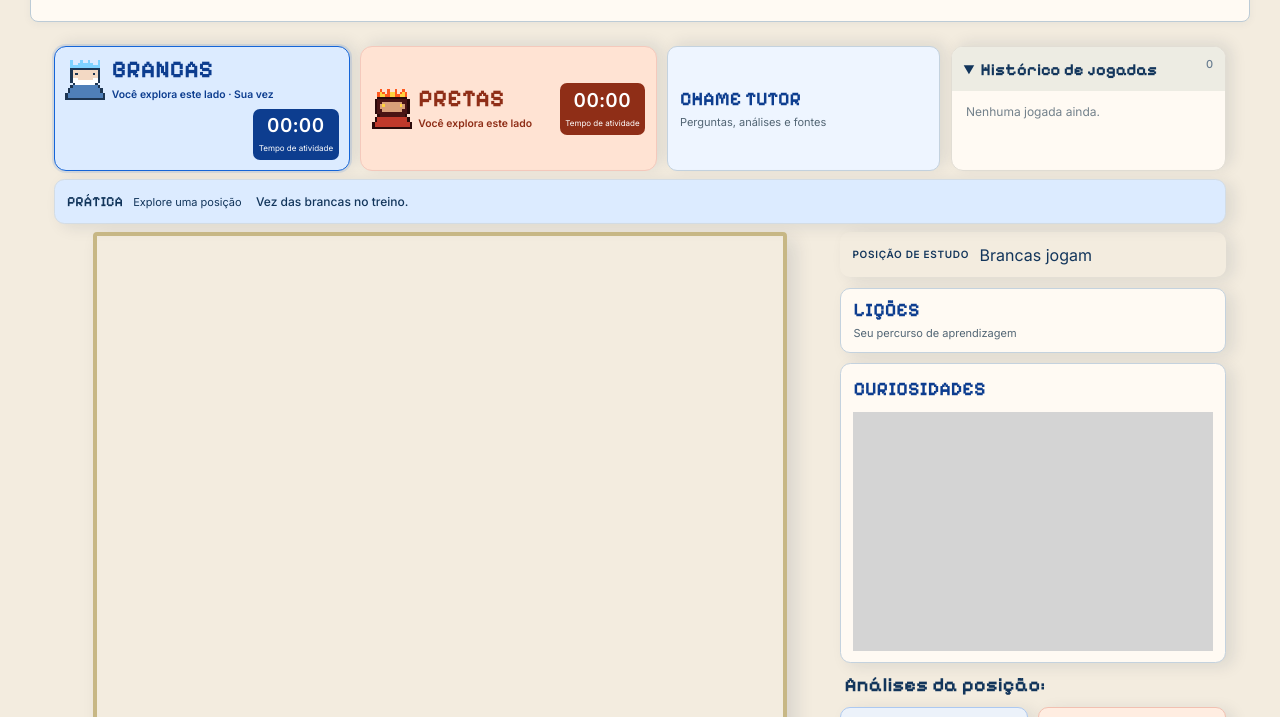
Scenario: troca de lições para tutor e devolve foco ao gatilho original ao fechar
(page scrolled)
Click the button "LIÇÕES Seu percurso de aprendizagem" at point(886, 309), box [840,288,1226,353]
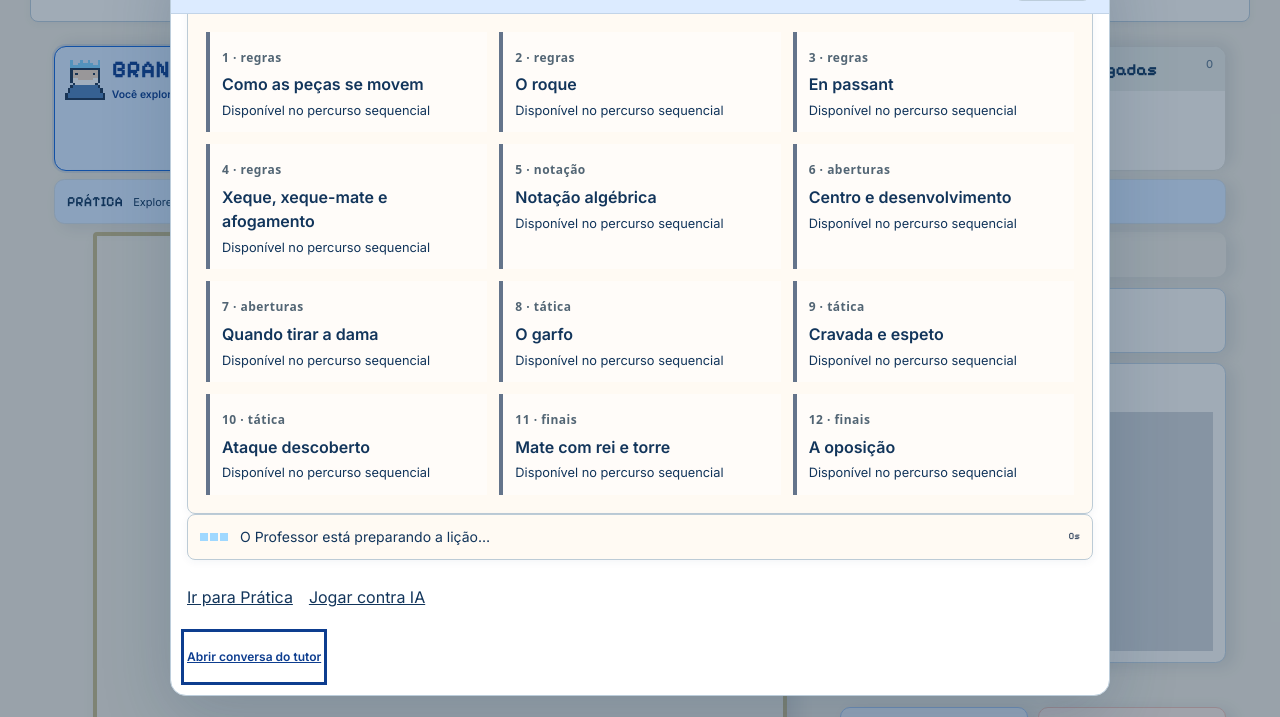
Click the button "Abrir conversa do tutor" at point(254, 657), box [187,635,321,679]
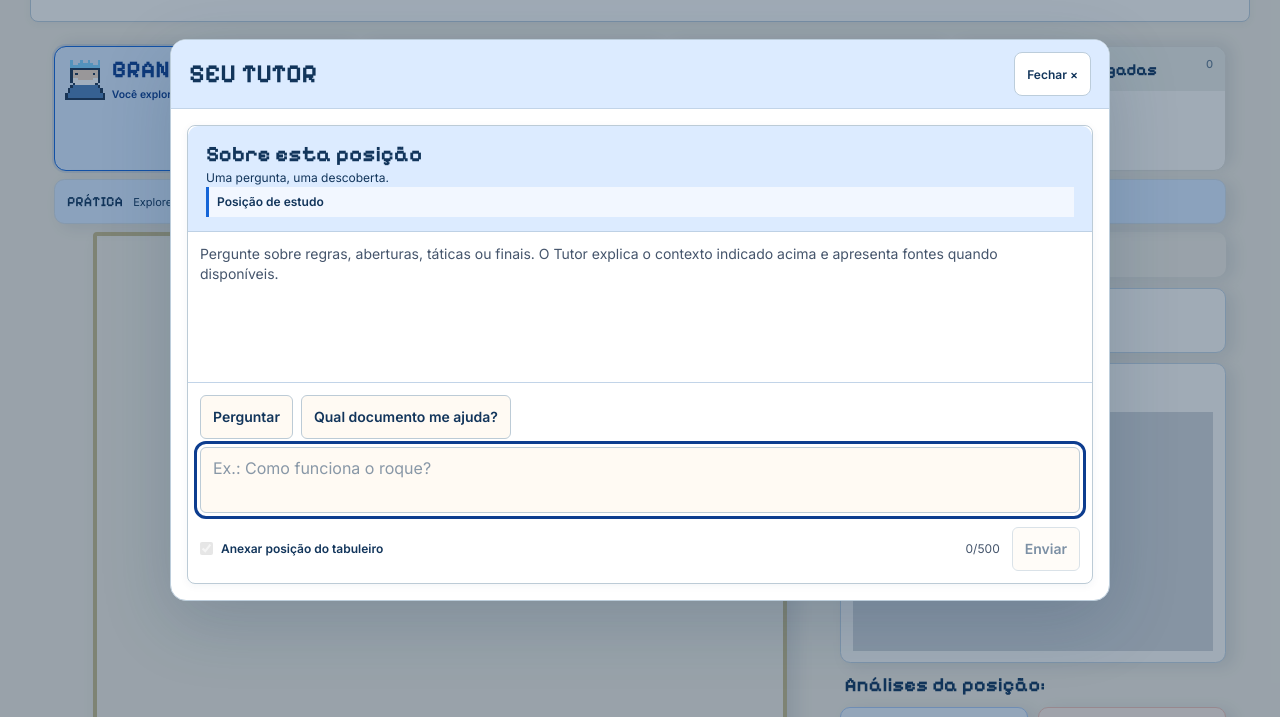
Result: the dialog "SEU TUTOR" is shown at [170,39,1110,601]
Press Escape in the text box, box [200,447,1080,513]
(page scrolled)
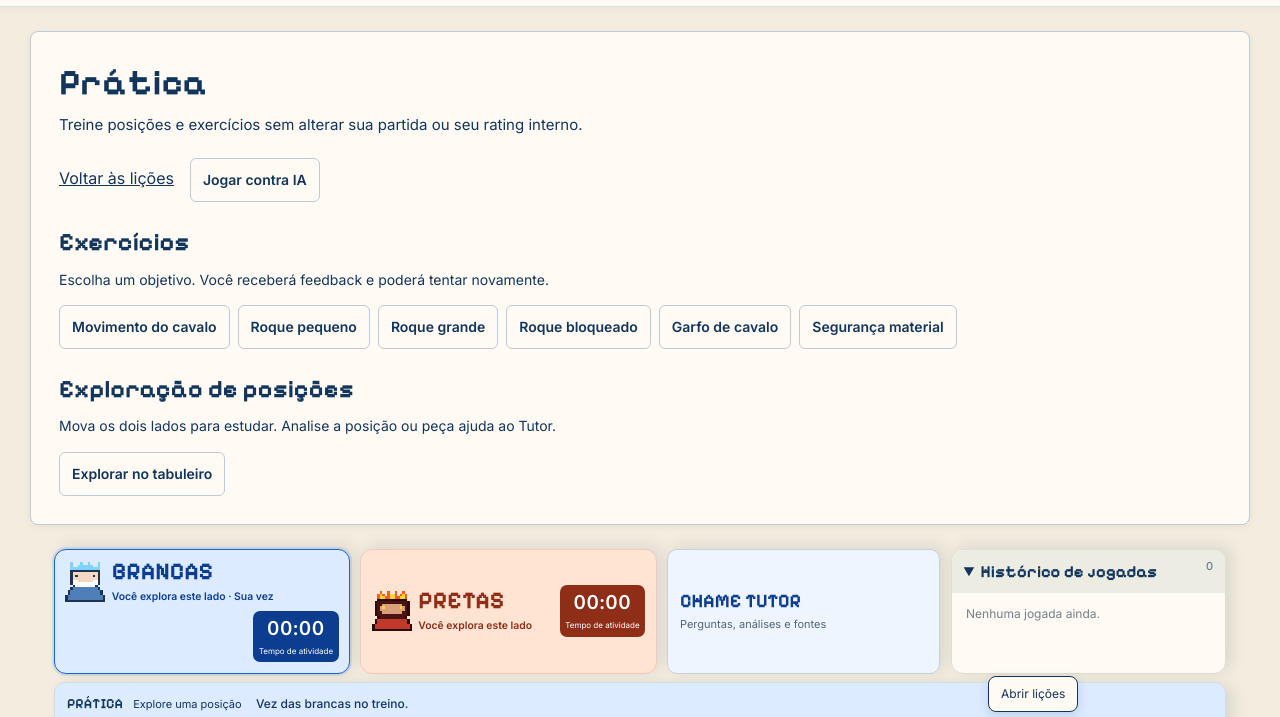
Result: the dialog is gone
